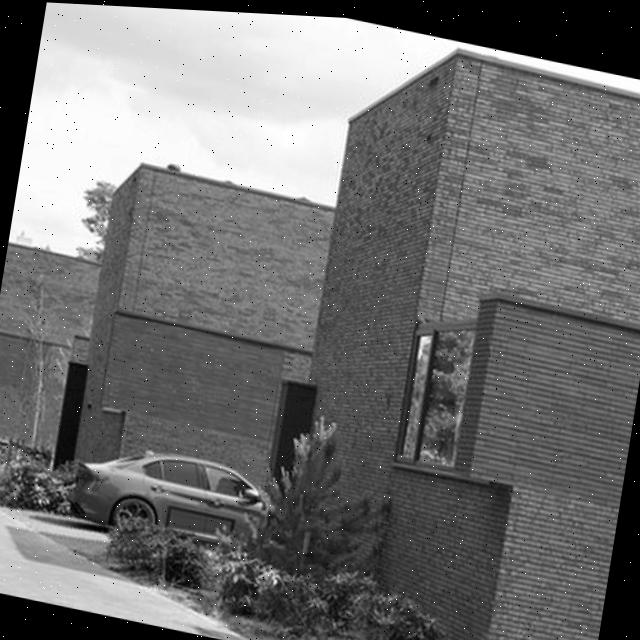building: (261, 20, 640, 640), (64, 154, 347, 542), (0, 230, 104, 474)
